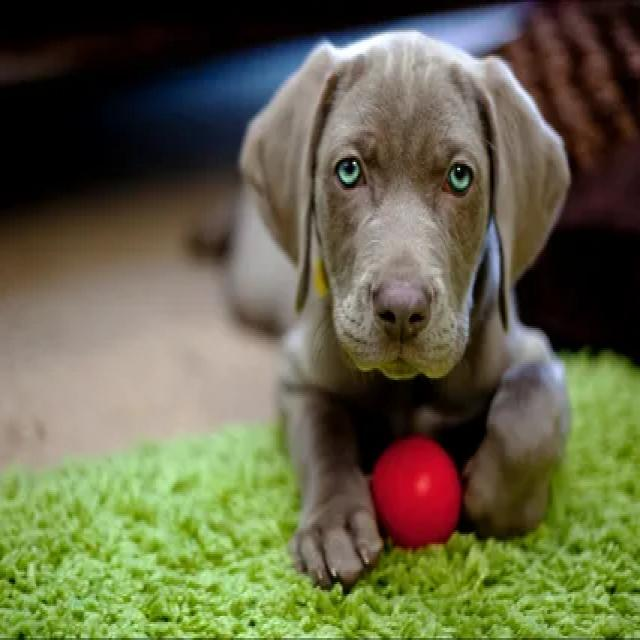Dog: (260, 30, 569, 422)
